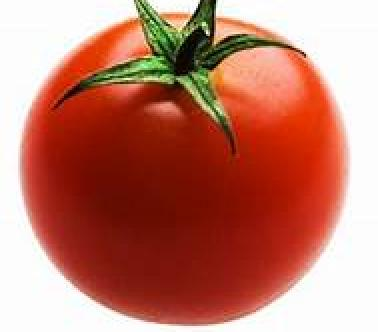tomato: (19, 18, 345, 324)
